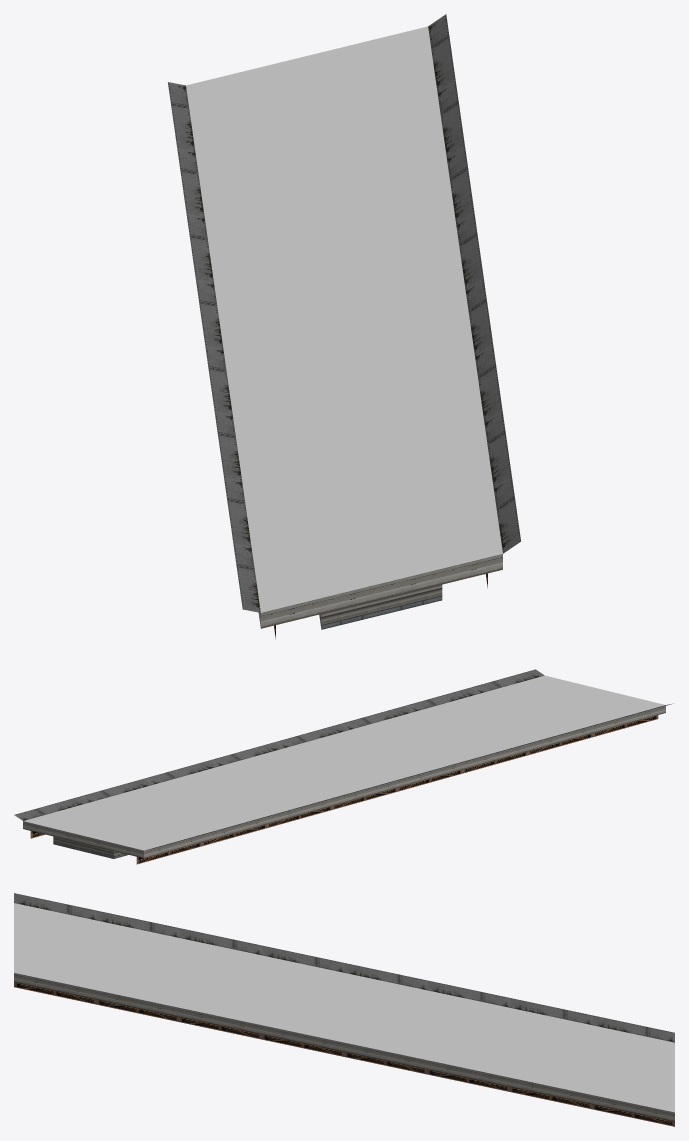
The model's file is ShearB_R.fbx.
The picture shows the model from 3 angles, top to bottom: view 1: azimuth 30°, elevation 25°; view 2: azimuth 150°, elevation 25°; view 3: azimuth 270°, elevation 25°; orthographic projection. The views are drawn at different scales.
Visible parts, largest first — view 1: Empty_Mesh; view 2: Empty_Mesh; view 3: Empty_Mesh.
Part boxes in pixels (x1,y1,x2,y2): Empty_Mesh: (168,14,520,639); Empty_Mesh: (14,669,672,864); Empty_Mesh: (14,893,674,1126).
Size of the model in its own units: 50.4 by 2.5 by 64.
